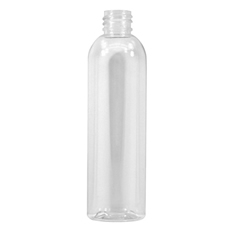emptybottle: (87, 9, 146, 221)
